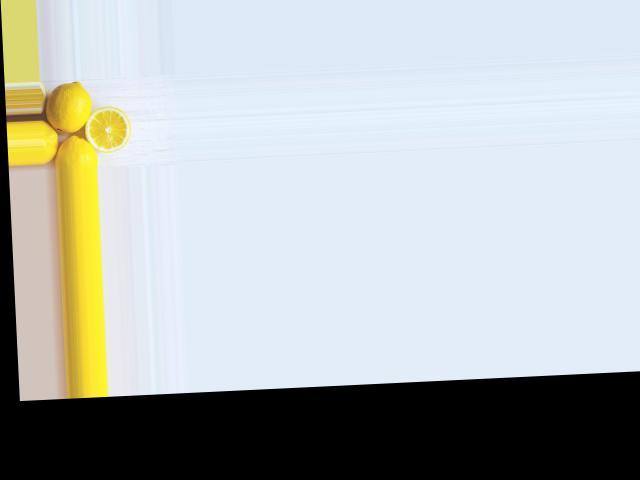lemon: (57, 134, 97, 169)
